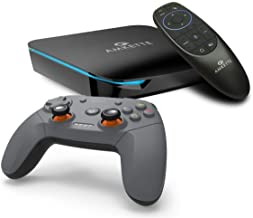gamingconsole: (3, 95, 164, 207)
